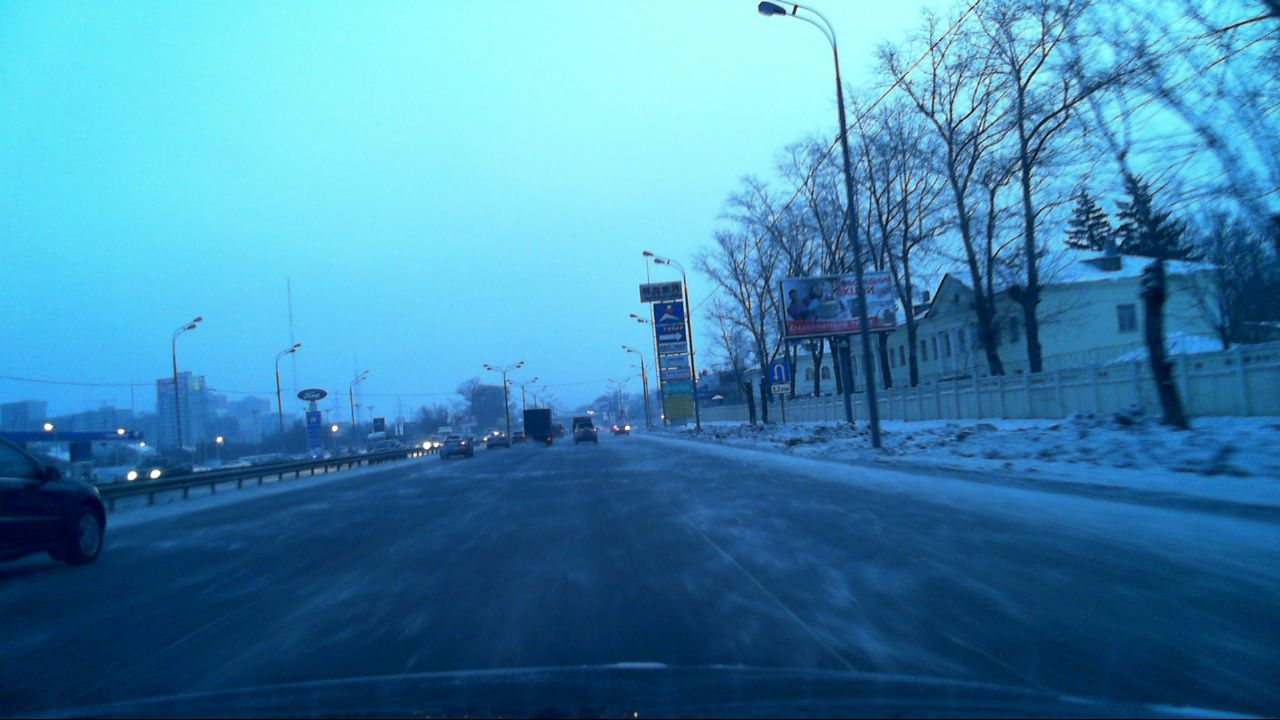U-turn: (769, 363, 790, 383)
